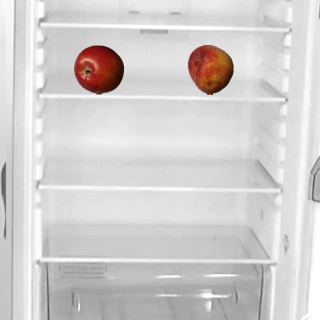Apple Braeburn: (73, 44, 123, 94)
Peach: (185, 44, 235, 94)
